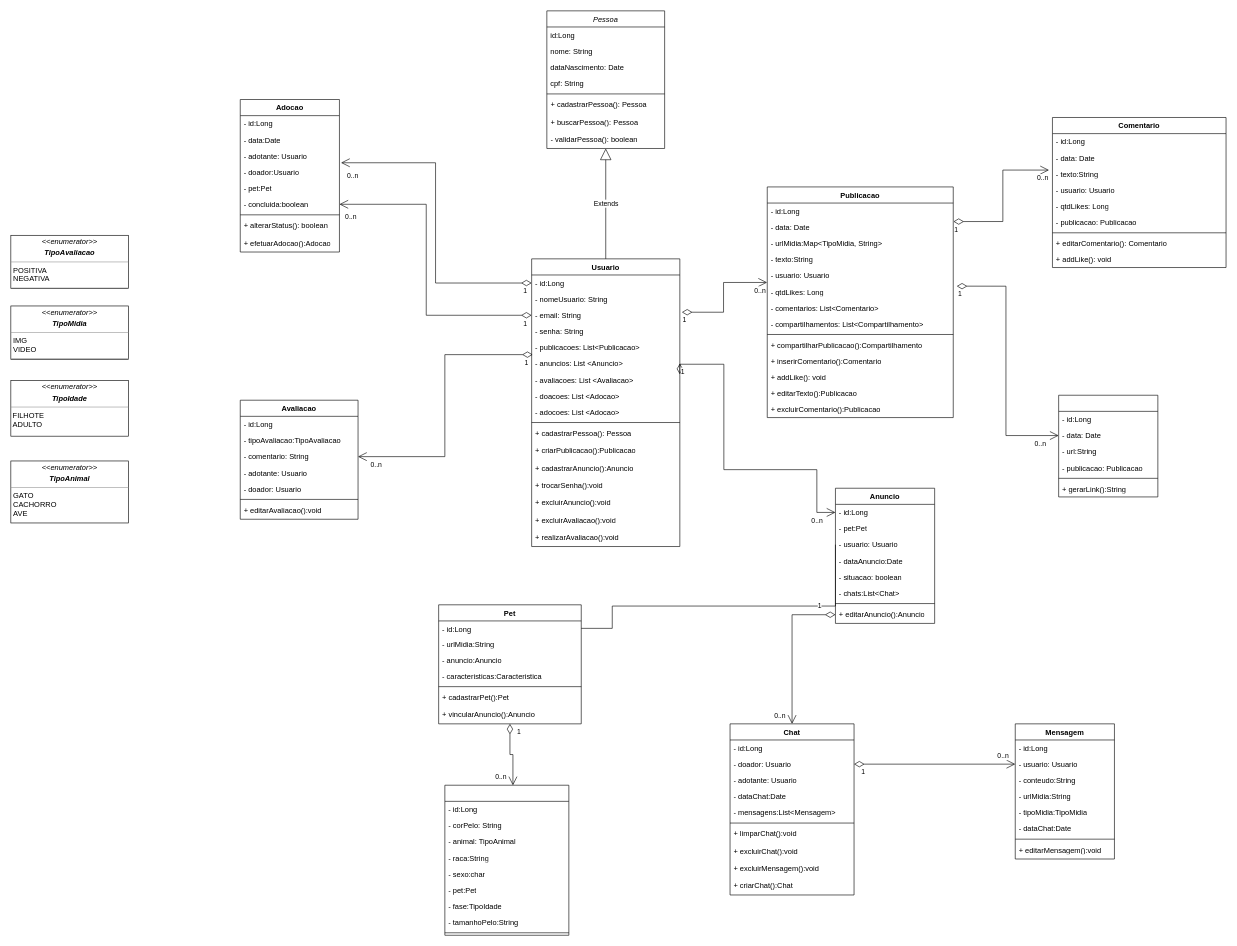
The diagram is 1237 pixels wide and 946 high, and some of its shapes have lost their labels. The box of each missing label's shape, as (x1, y1, x2, y2) in pixels:
Caracteristica: (444, 785, 569, 935)
Compartilhamento: (1058, 395, 1158, 497)
